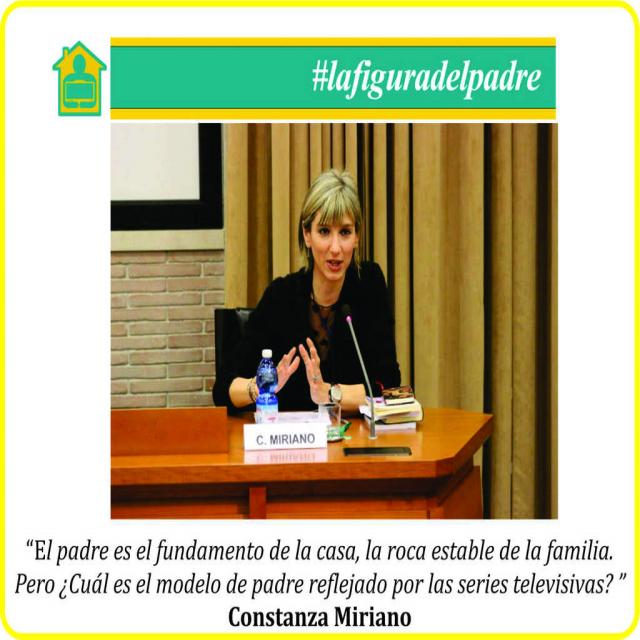desk: (88, 383, 510, 540)
person: (218, 168, 404, 413)
